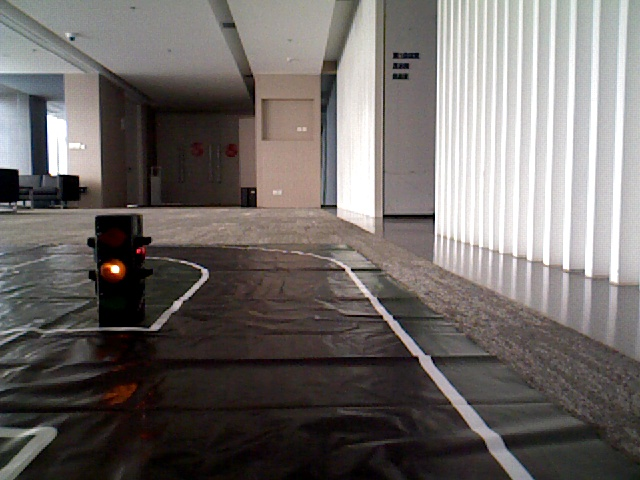yellow: (93, 219, 134, 310)
